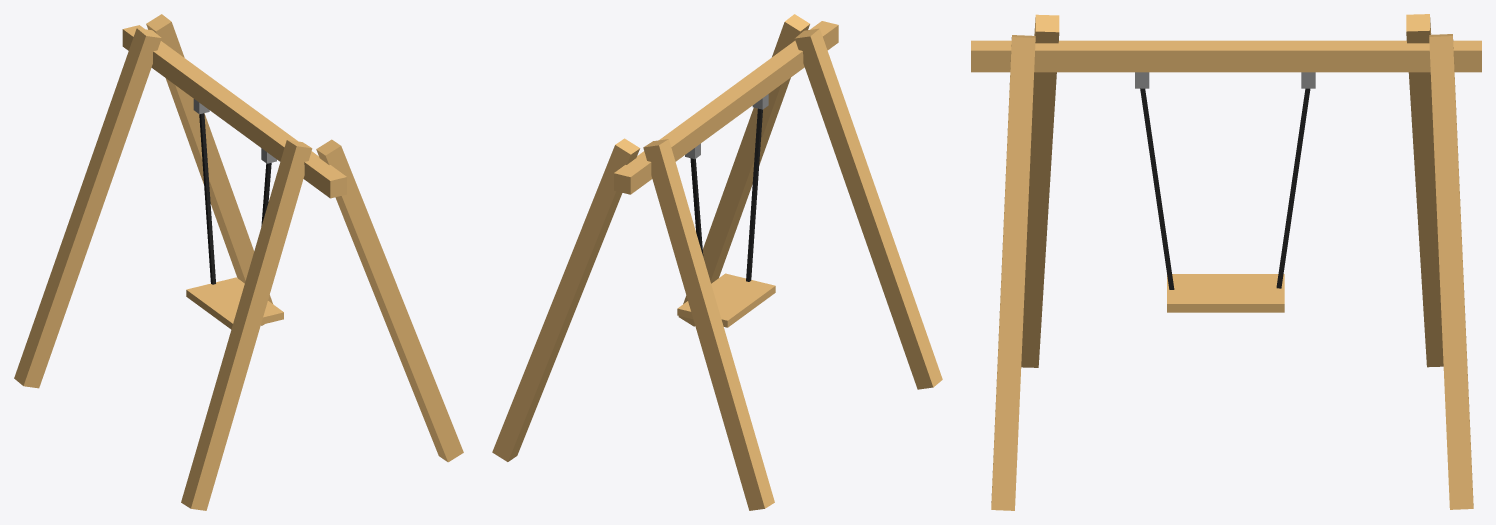
The model's file is swing.gltf.
The picture shows the model from 3 angles, left to right: view 1: azimuth 30°, elevation 25°; view 2: azimuth 150°, elevation 25°; view 3: azimuth 270°, elevation 25°; orthographic projection. The views are drawn at different scales.
Visible parts, largest first — view 1: 7fe286d5-d9fc-186f-e4d2-f1f50b0ad54c, 1bf76e12-a2ef-db78-d427-cfc48b8ff02d, b10a4d99-73f2-64a6-1f55-77a2882f1d17, 944571f7-f18e-8dd1-eece-acad35b6e77d, 6fd572b6-c55f-ccdb-85f8-f1c289065681, 43d2c8e2-977d-5863-f570-353f3c980375, 14f1fbbf-fe0e-ca47-62c8-1f55f88804f1; view 2: 1bf76e12-a2ef-db78-d427-cfc48b8ff02d, 7fe286d5-d9fc-186f-e4d2-f1f50b0ad54c, 6fd572b6-c55f-ccdb-85f8-f1c289065681, 944571f7-f18e-8dd1-eece-acad35b6e77d, b10a4d99-73f2-64a6-1f55-77a2882f1d17, 43d2c8e2-977d-5863-f570-353f3c980375, fb959b1e-15b4-0054-4b5e-953784ebeddd, 14f1fbbf-fe0e-ca47-62c8-1f55f88804f1; view 3: 944571f7-f18e-8dd1-eece-acad35b6e77d, 6fd572b6-c55f-ccdb-85f8-f1c289065681, b10a4d99-73f2-64a6-1f55-77a2882f1d17, 7fe286d5-d9fc-186f-e4d2-f1f50b0ad54c, 1bf76e12-a2ef-db78-d427-cfc48b8ff02d, 43d2c8e2-977d-5863-f570-353f3c980375, fb959b1e-15b4-0054-4b5e-953784ebeddd, 14f1fbbf-fe0e-ca47-62c8-1f55f88804f1.
Boxes of the visible parts, <box> form: 7fe286d5-d9fc-186f-e4d2-f1f50b0ad54c: <box>181,140,312,510</box>; 1bf76e12-a2ef-db78-d427-cfc48b8ff02d: <box>14,28,161,388</box>; b10a4d99-73f2-64a6-1f55-77a2882f1d17: <box>316,139,463,462</box>; 944571f7-f18e-8dd1-eece-acad35b6e77d: <box>122,25,346,198</box>; 6fd572b6-c55f-ccdb-85f8-f1c289065681: <box>146,14,272,325</box>; 43d2c8e2-977d-5863-f570-353f3c980375: <box>186,277,283,329</box>; 14f1fbbf-fe0e-ca47-62c8-1f55f88804f1: <box>199,113,215,284</box>; 1bf76e12-a2ef-db78-d427-cfc48b8ff02d: <box>643,139,774,510</box>; 7fe286d5-d9fc-186f-e4d2-f1f50b0ad54c: <box>794,28,942,389</box>; 6fd572b6-c55f-ccdb-85f8-f1c289065681: <box>492,138,640,461</box>; 944571f7-f18e-8dd1-eece-acad35b6e77d: <box>614,21,838,194</box>; b10a4d99-73f2-64a6-1f55-77a2882f1d17: <box>678,14,809,326</box>; 43d2c8e2-977d-5863-f570-353f3c980375: <box>677,273,775,327</box>; fb959b1e-15b4-0054-4b5e-953784ebeddd: <box>746,108,762,281</box>; 14f1fbbf-fe0e-ca47-62c8-1f55f88804f1: <box>690,158,703,255</box>; 944571f7-f18e-8dd1-eece-acad35b6e77d: <box>971,40,1481,72</box>; 6fd572b6-c55f-ccdb-85f8-f1c289065681: <box>1429,34,1473,509</box>; b10a4d99-73f2-64a6-1f55-77a2882f1d17: <box>991,35,1035,510</box>; 7fe286d5-d9fc-186f-e4d2-f1f50b0ad54c: <box>1021,14,1059,367</box>; 1bf76e12-a2ef-db78-d427-cfc48b8ff02d: <box>1406,14,1443,367</box>; 43d2c8e2-977d-5863-f570-353f3c980375: <box>1167,274,1284,312</box>; fb959b1e-15b4-0054-4b5e-953784ebeddd: <box>1140,88,1174,289</box>; 14f1fbbf-fe0e-ca47-62c8-1f55f88804f1: <box>1276,88,1310,288</box>.
Size of the model in its own units: 1.97 by 2.41 by 2.69.
Materials: 3 (3 with a texture image).
